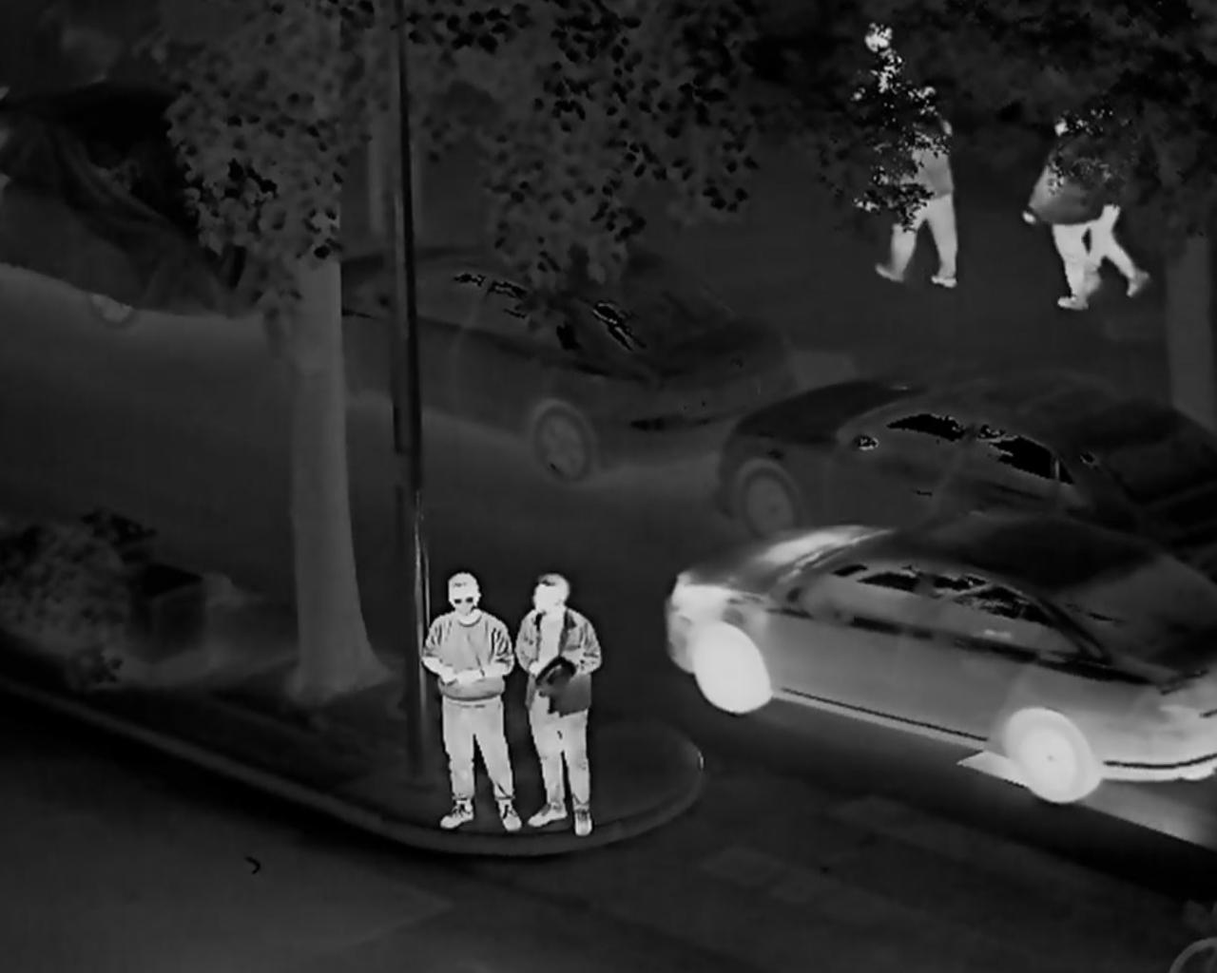person: (426, 542, 532, 834), (522, 568, 609, 853), (867, 58, 961, 287), (1030, 95, 1094, 326), (1071, 107, 1149, 294), (850, 21, 920, 227)
